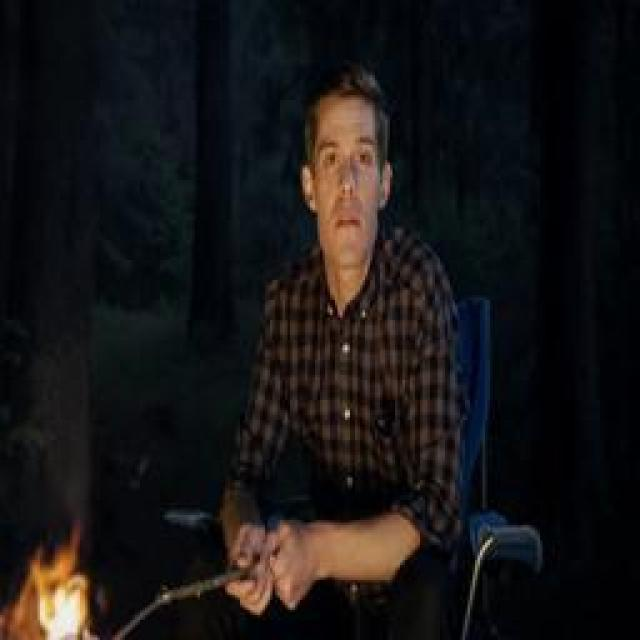Fire: (1, 512, 104, 640)
